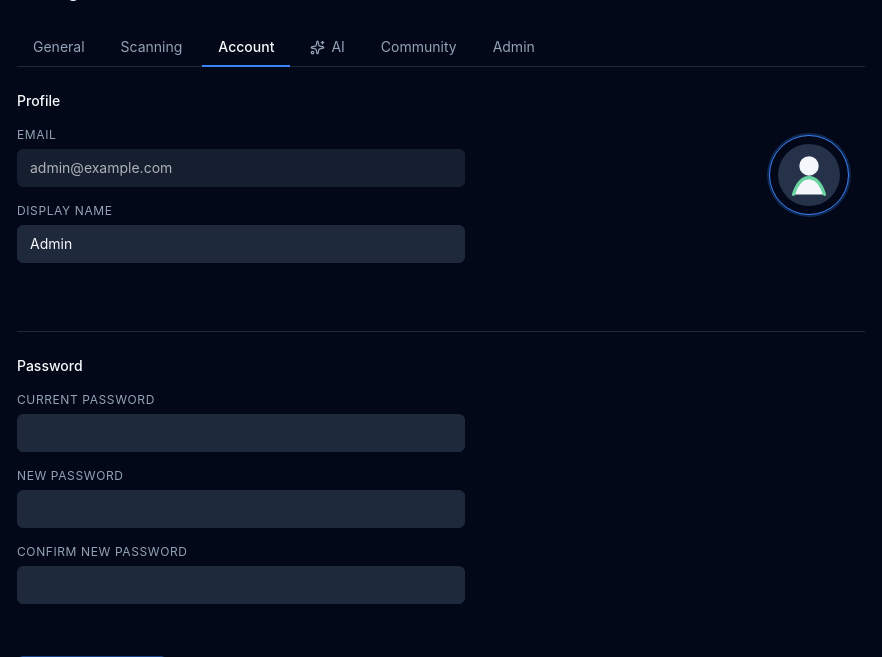
Scenario: AccountSettings › updates the current user password from account settings
This screenshot has width=882, height=657.
Check: the heading "Password" is shown, box [17,356,83,376]
Type "old password value" into the password field labelled "Current password" at [241, 433], box [17,414,465,452]
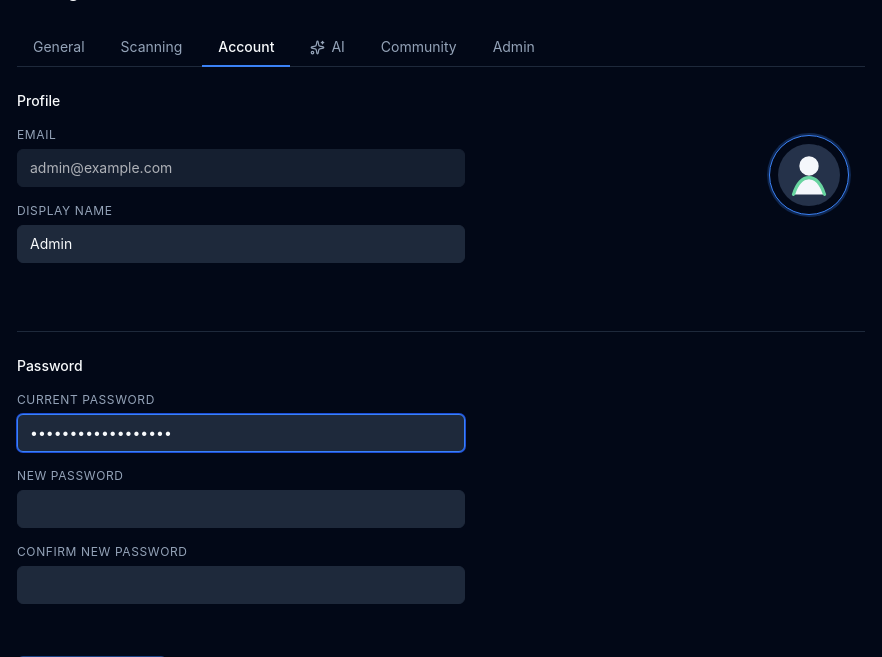
Type "new password value" into the password field labelled "New password" at [241, 509], box [17,490,465,528]
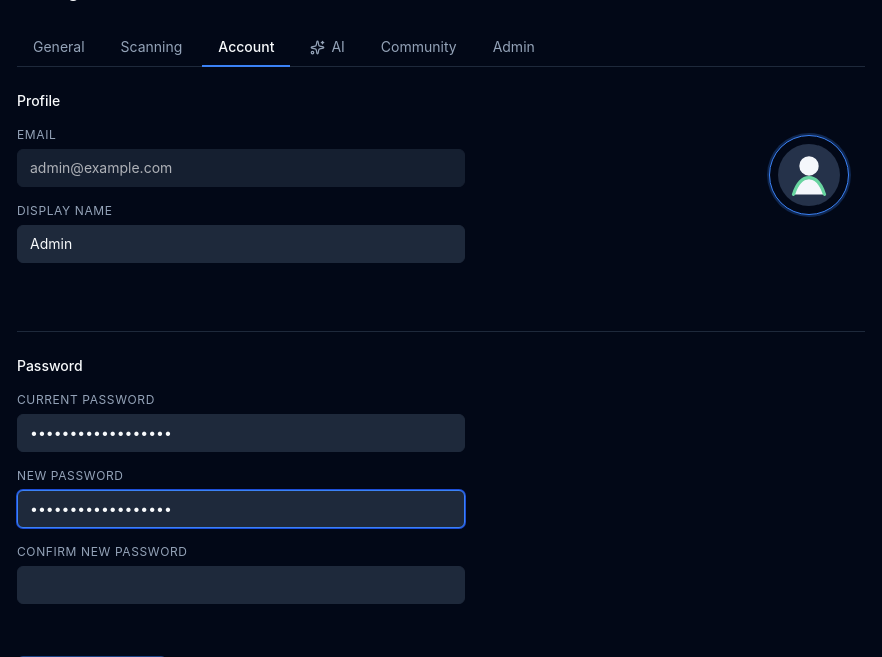
Type "new password value" into the password field labelled "Confirm new password" at [241, 585], box [17,566,465,604]
(page scrolled)
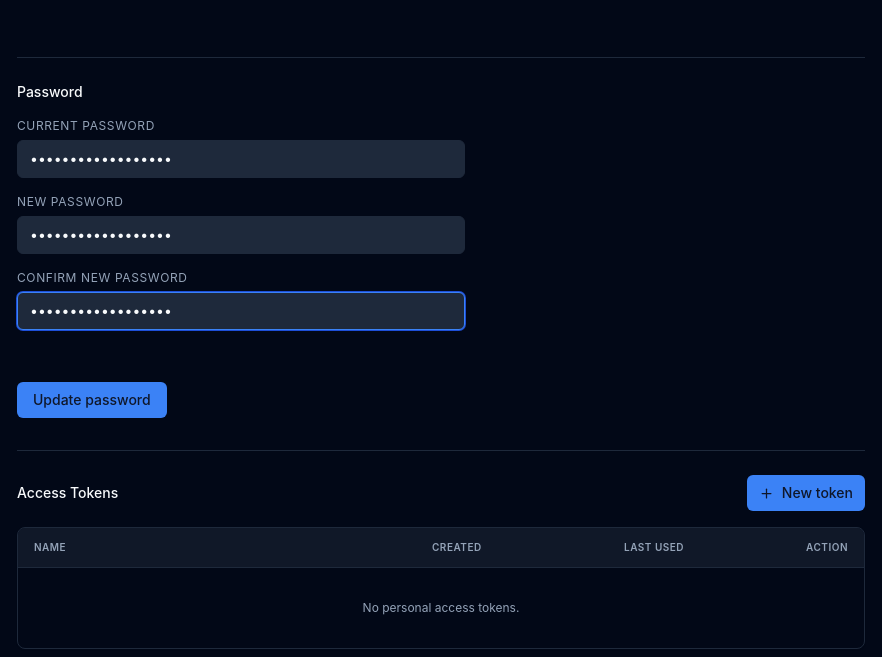
Click the button "Update password" at [92, 400], box [17,382,167,418]
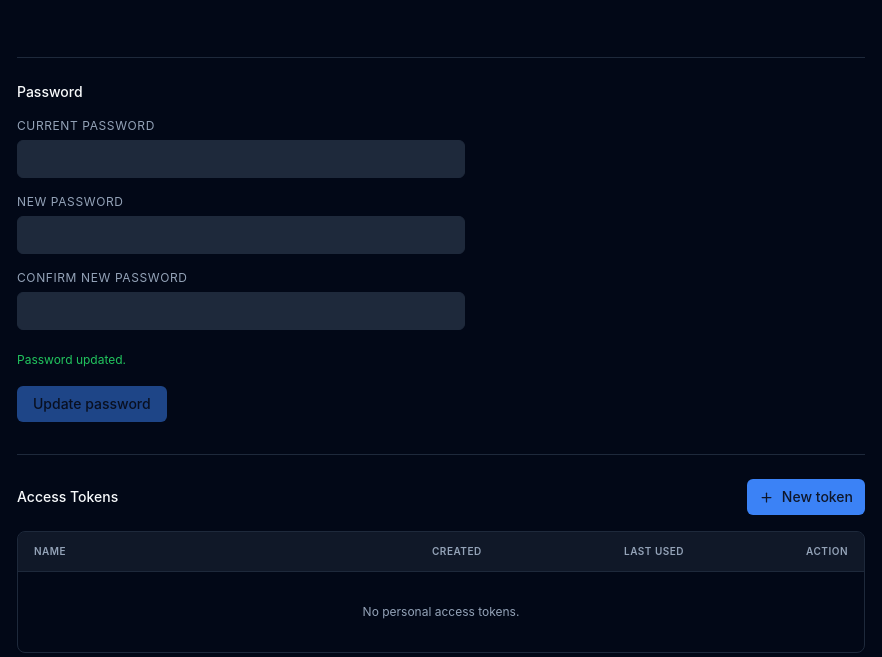
Check: the text "Password updated." is shown, box [17,352,126,367]
Check: the password field labelled "Current password" is empty, box [17,140,465,178]
Check: the password field labelled "New password" is empty, box [17,216,465,254]
